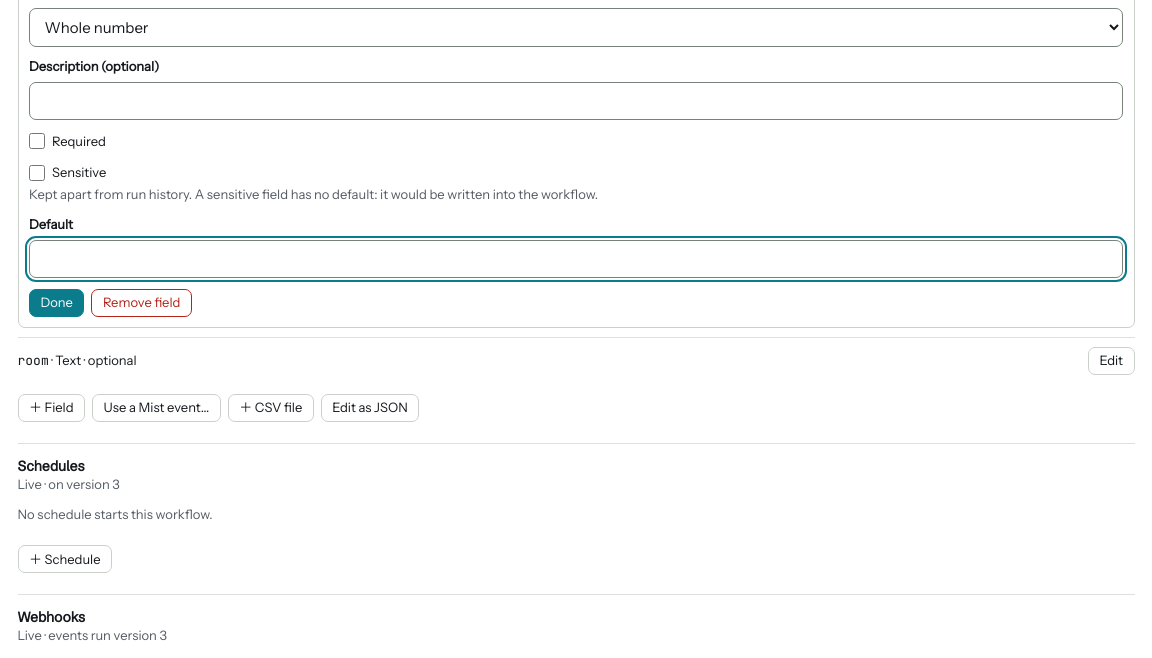
Scenario: the input as form fields › opens Go to it's field on its Name when it's edited again, through another field's Edit
The width and height of the screenshot is (1152, 658).
(page scrolled)
Click the button with aria-label "Edit room": (1111, 361) [1088, 347, 1134, 375]
(page scrolled)
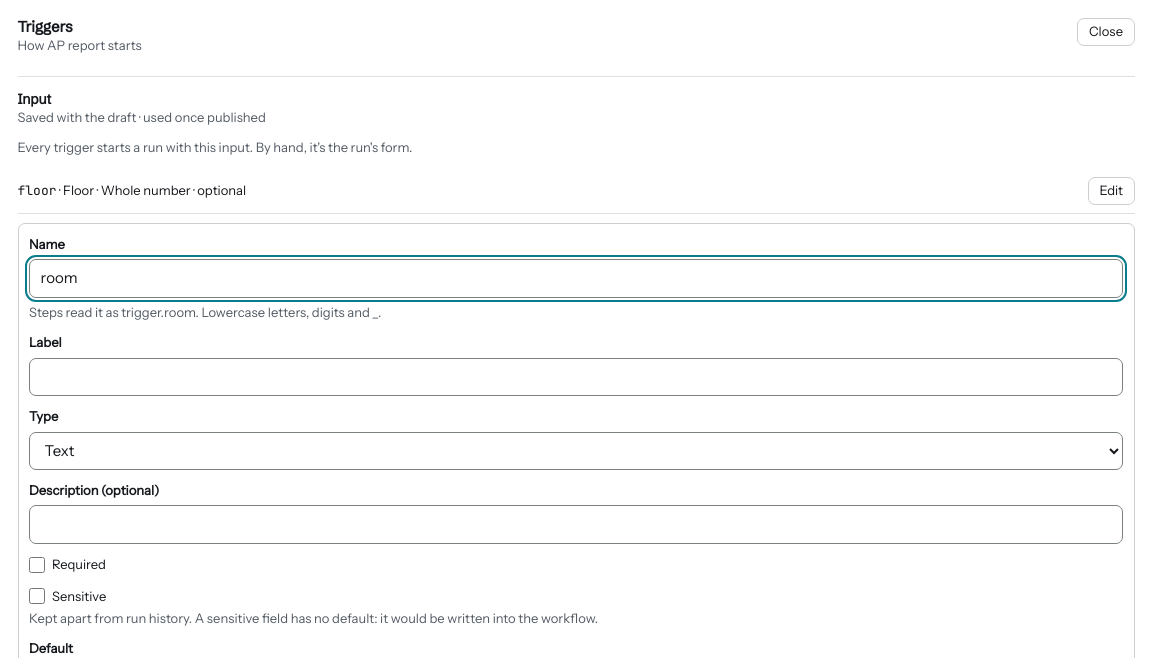
Click the button with aria-label "Edit floor": (1111, 190) [1088, 176, 1134, 204]
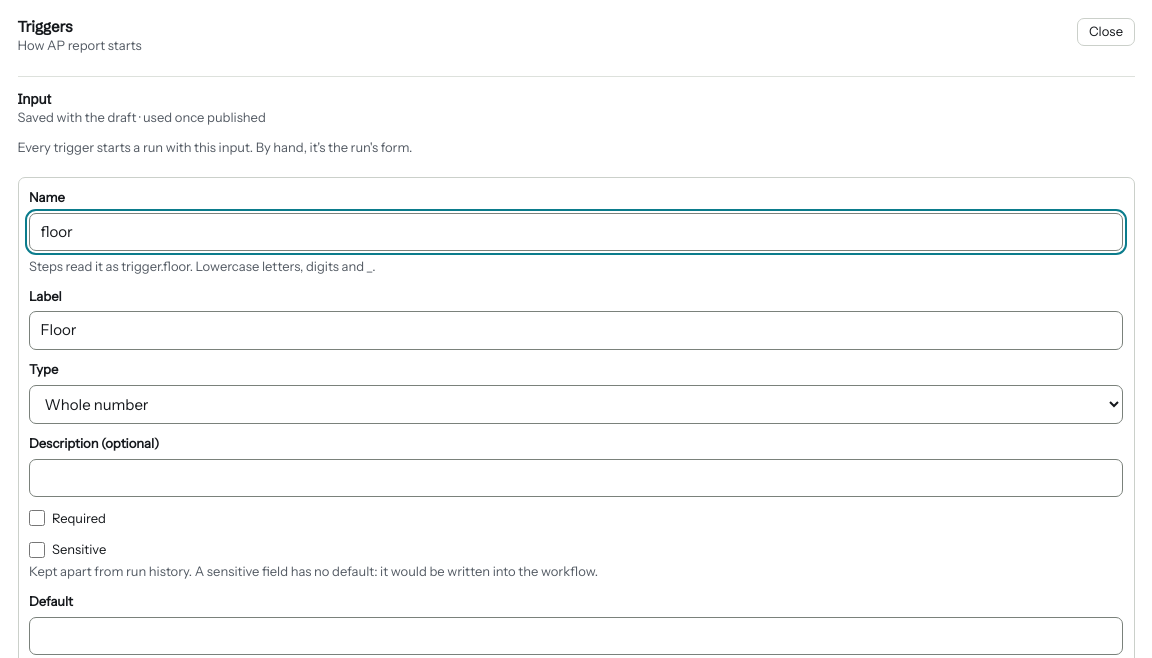
Expected: the field labelled "Name" holds "floor", [29, 213, 1123, 251]
